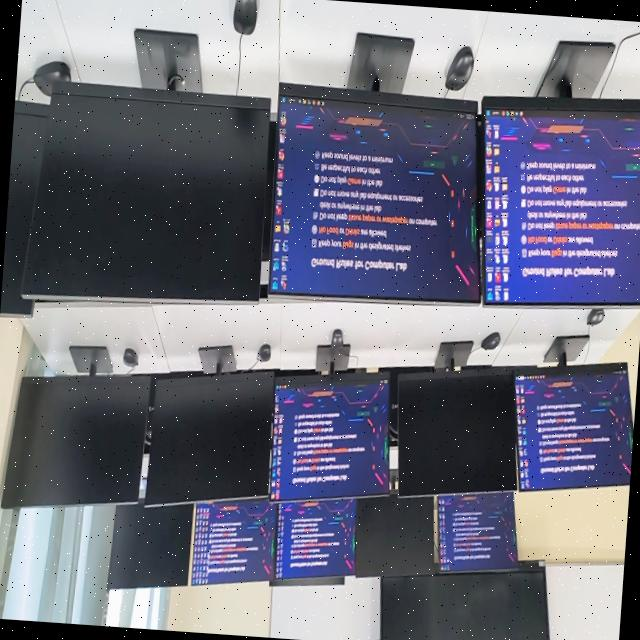Digital board: (380, 562, 549, 640)
Monitor: (21, 82, 269, 304), (269, 95, 477, 303), (481, 86, 640, 307), (1, 375, 150, 508), (143, 356, 274, 506), (268, 369, 389, 502), (397, 367, 517, 496), (514, 363, 633, 490), (0, 101, 48, 317), (190, 500, 277, 585), (107, 504, 193, 589), (355, 491, 436, 577), (274, 500, 356, 579), (437, 493, 517, 572), (270, 576, 344, 586)
Mouse: (32, 61, 70, 96), (445, 46, 474, 91), (233, 0, 257, 35), (481, 332, 500, 350), (331, 329, 344, 354), (123, 348, 138, 368), (586, 309, 603, 326), (257, 345, 270, 362)
